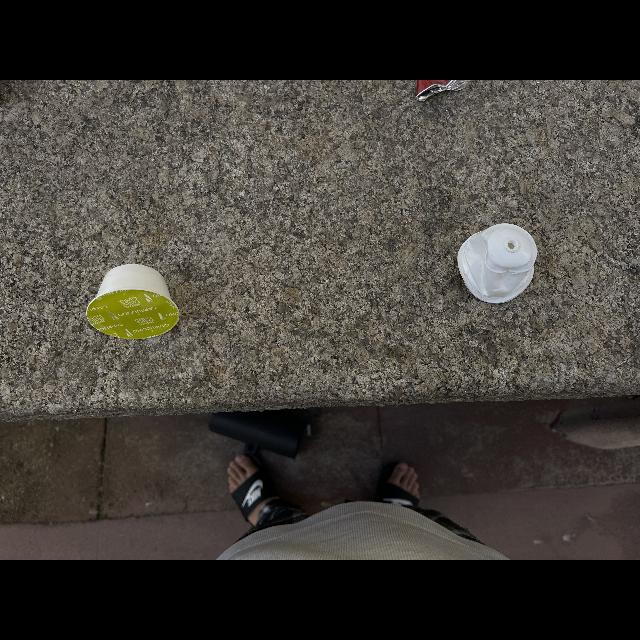damaged_capsule: (454, 217, 556, 303)
intact_capsule: (83, 255, 187, 347)
